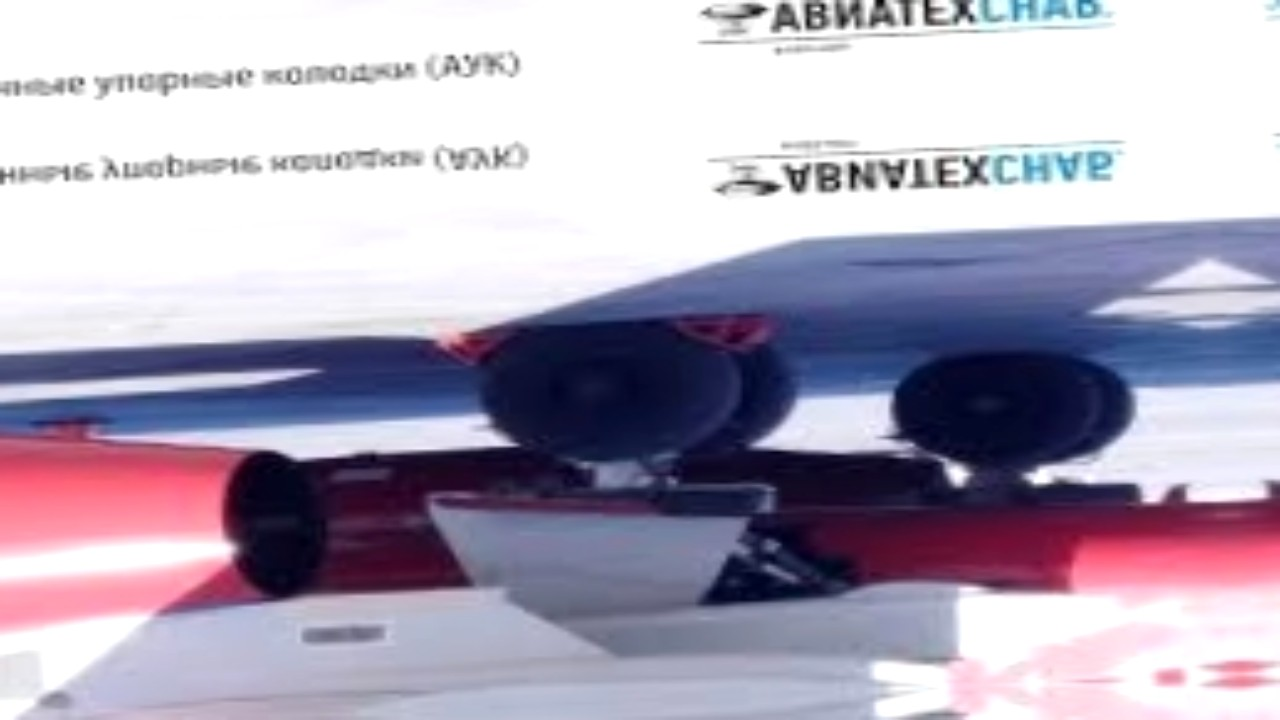chock: (670, 313, 792, 360), (424, 327, 535, 371)
wheel: (474, 315, 747, 469), (874, 343, 1144, 473)
